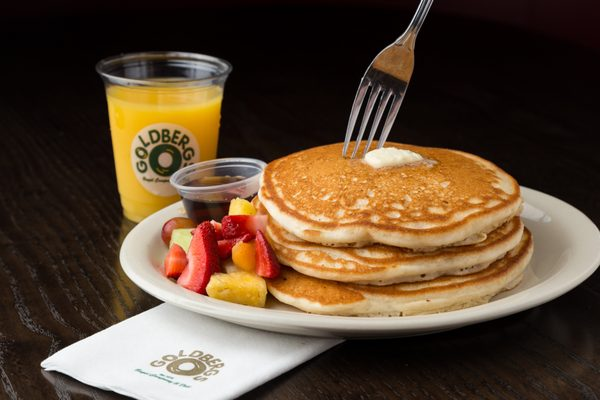burger: (341, 0, 435, 158)
pizza: (94, 51, 233, 223), (169, 157, 266, 224)
soup: (254, 139, 533, 313)
taco: (268, 273, 367, 314)
